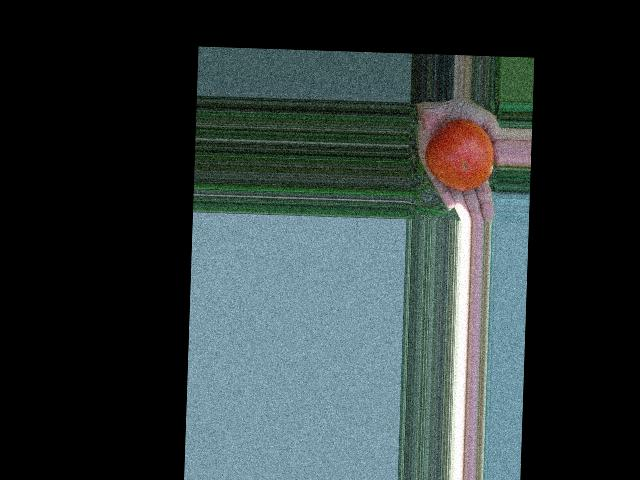tomato: (423, 118, 494, 191)
